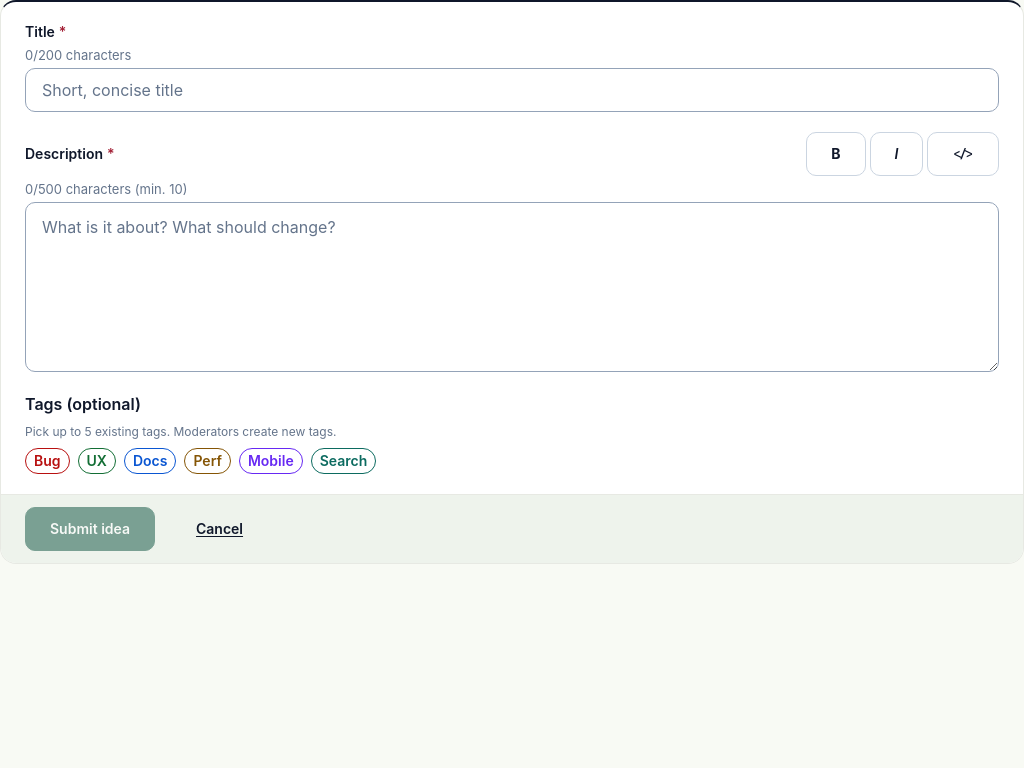
Test: IdeaSubmitForm tag picker (P-34) › allows at most five tags: the sixth chip is disabled until one is removed
Click the button with test id "submit-tag-11" at (47, 461), box [25,448,70,474]
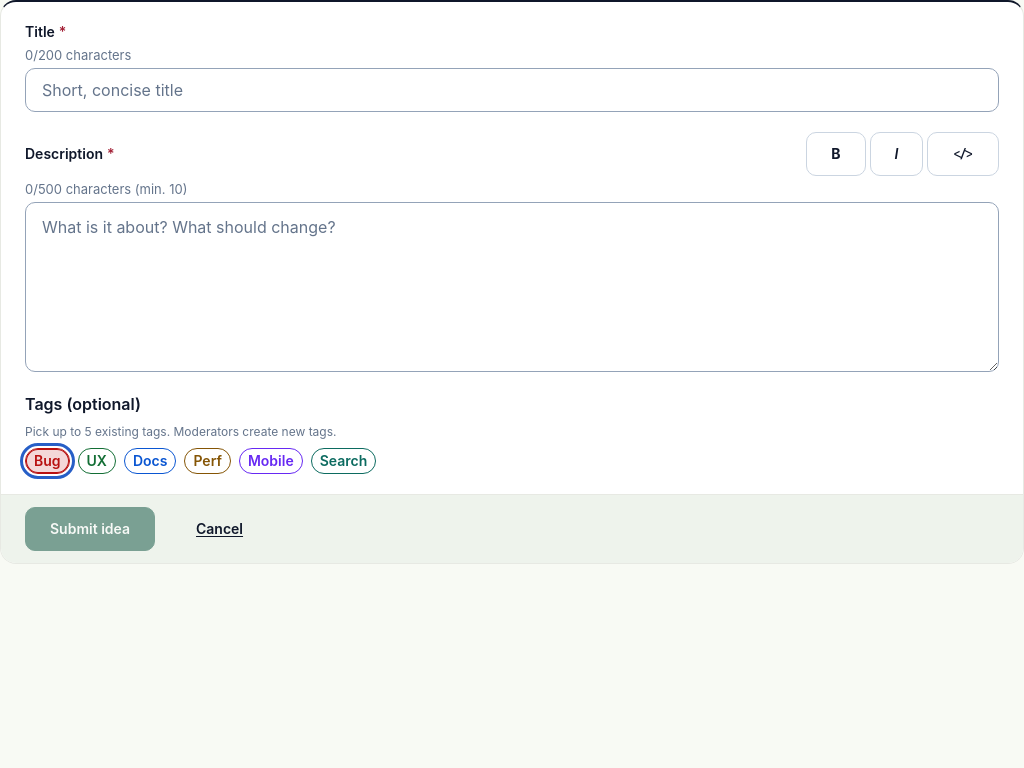
Click the button with test id "submit-tag-12" at (97, 461), box [78,448,116,474]
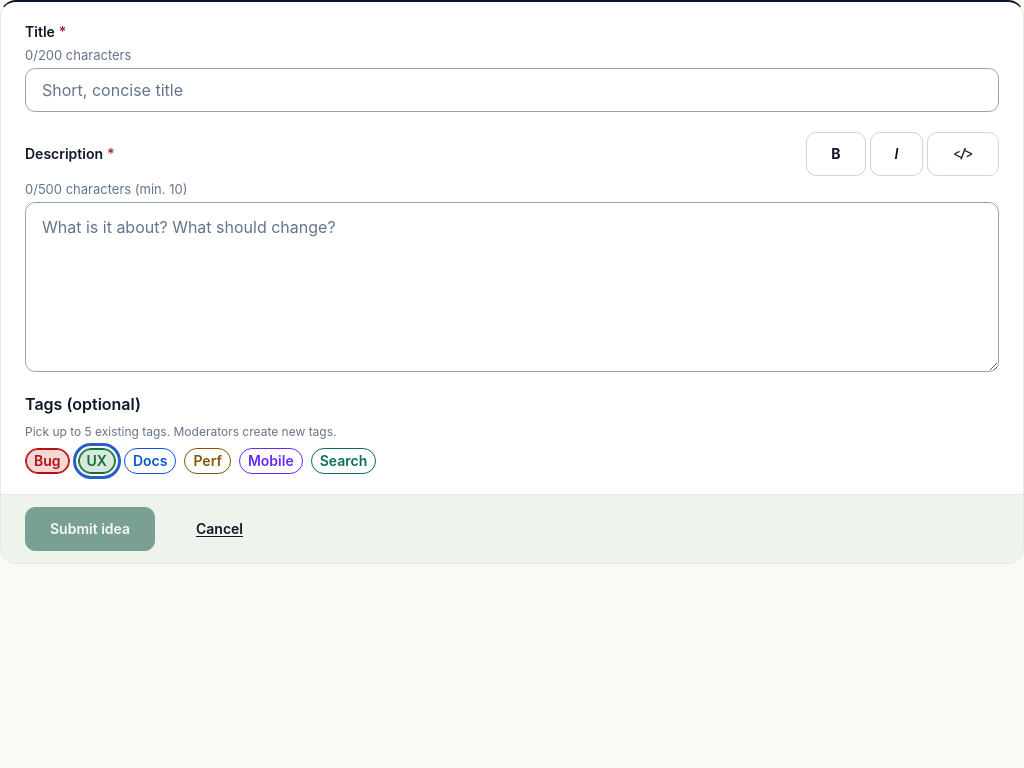
Click the button with test id "submit-tag-13" at (150, 461), box [124,448,176,474]
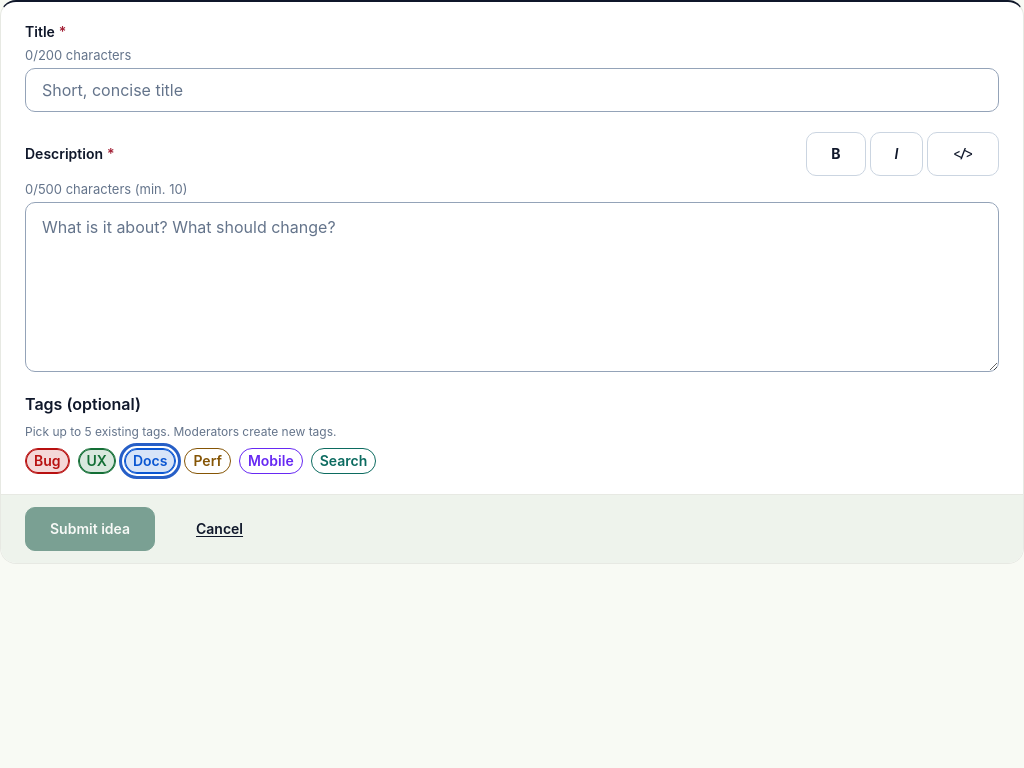
Click the button "Perf" at (208, 461), box [184,448,231,474]
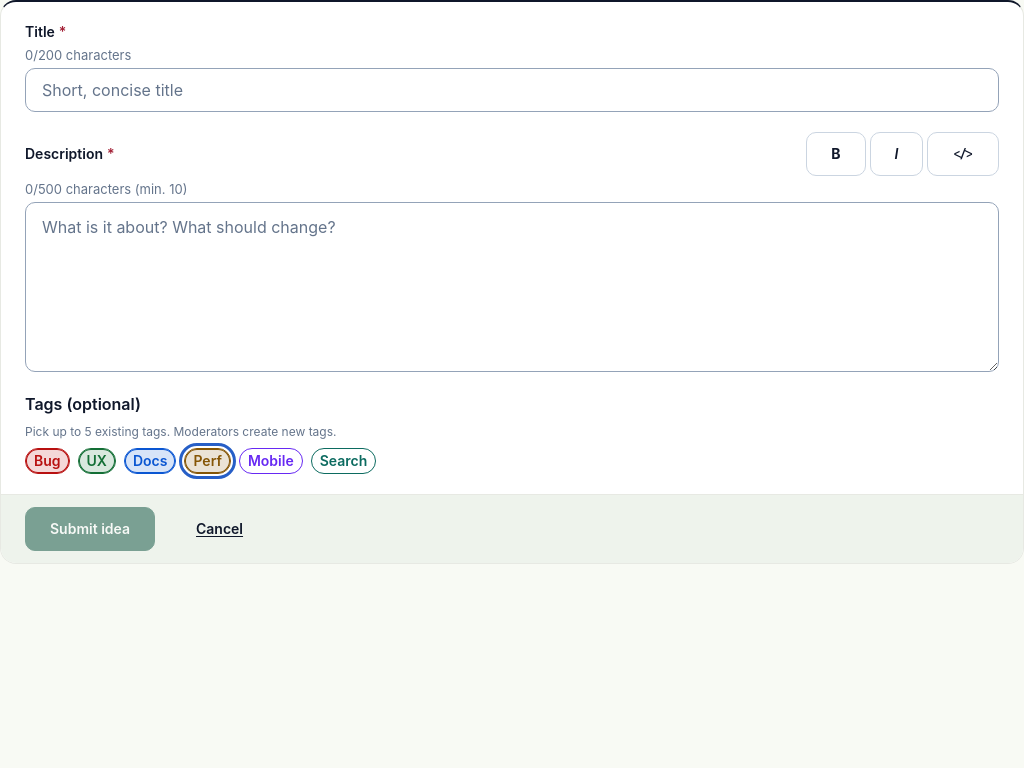
Click the button with test id "submit-tag-15" at (271, 461), box [239,448,303,474]
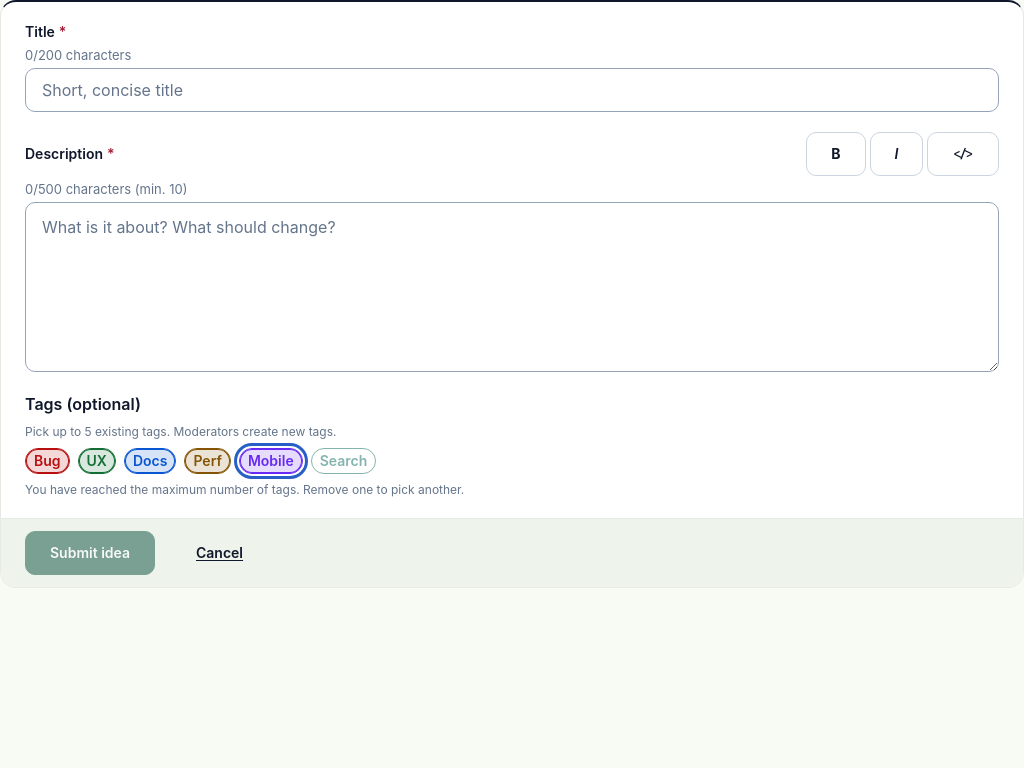
Expected: the button with test id "submit-tag-16" is disabled, [311,448,376,474]
Expected: the text with test id "submit-tag-picker-limit" is shown, [25,482,464,497]
Click the button with test id "submit-tag-15" at (271, 461), box [239,448,303,474]
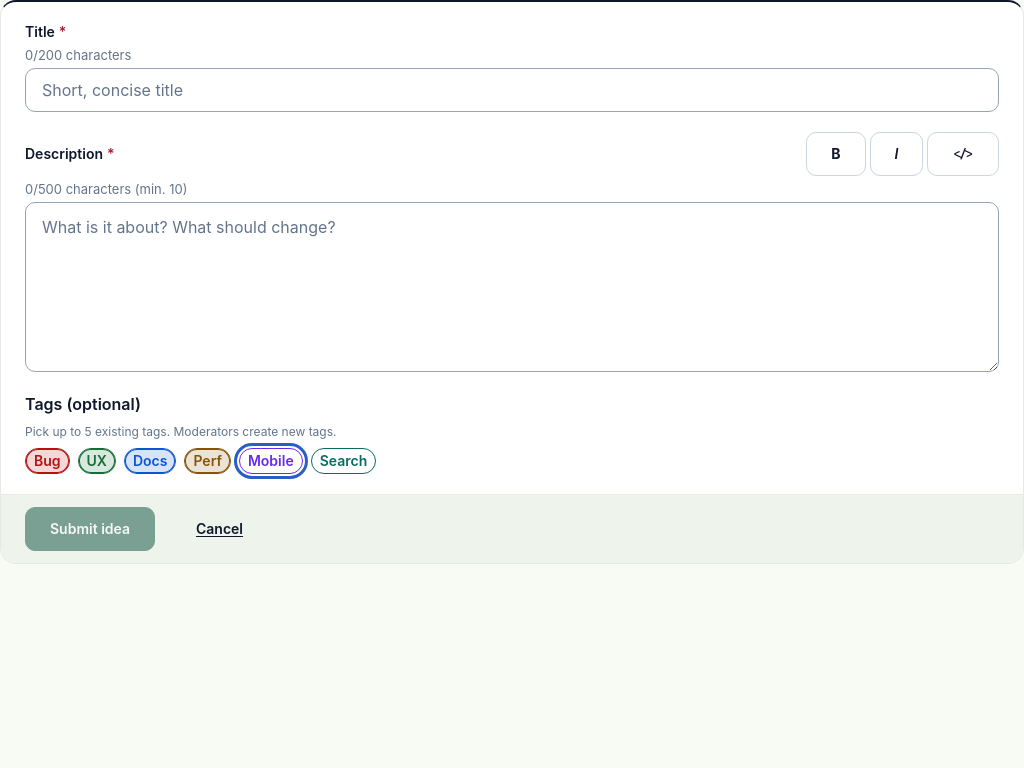
Expected: the button with test id "submit-tag-16" is enabled, [311,448,376,474]
